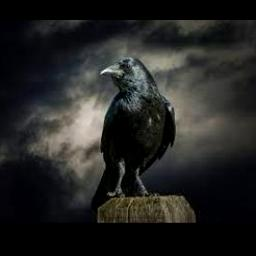Crow: (91, 57, 175, 208)
